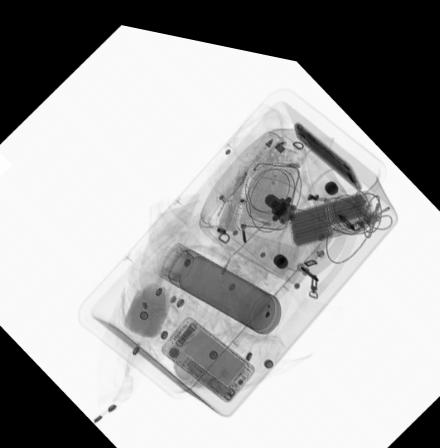Powerbank: (284, 175, 372, 236)
